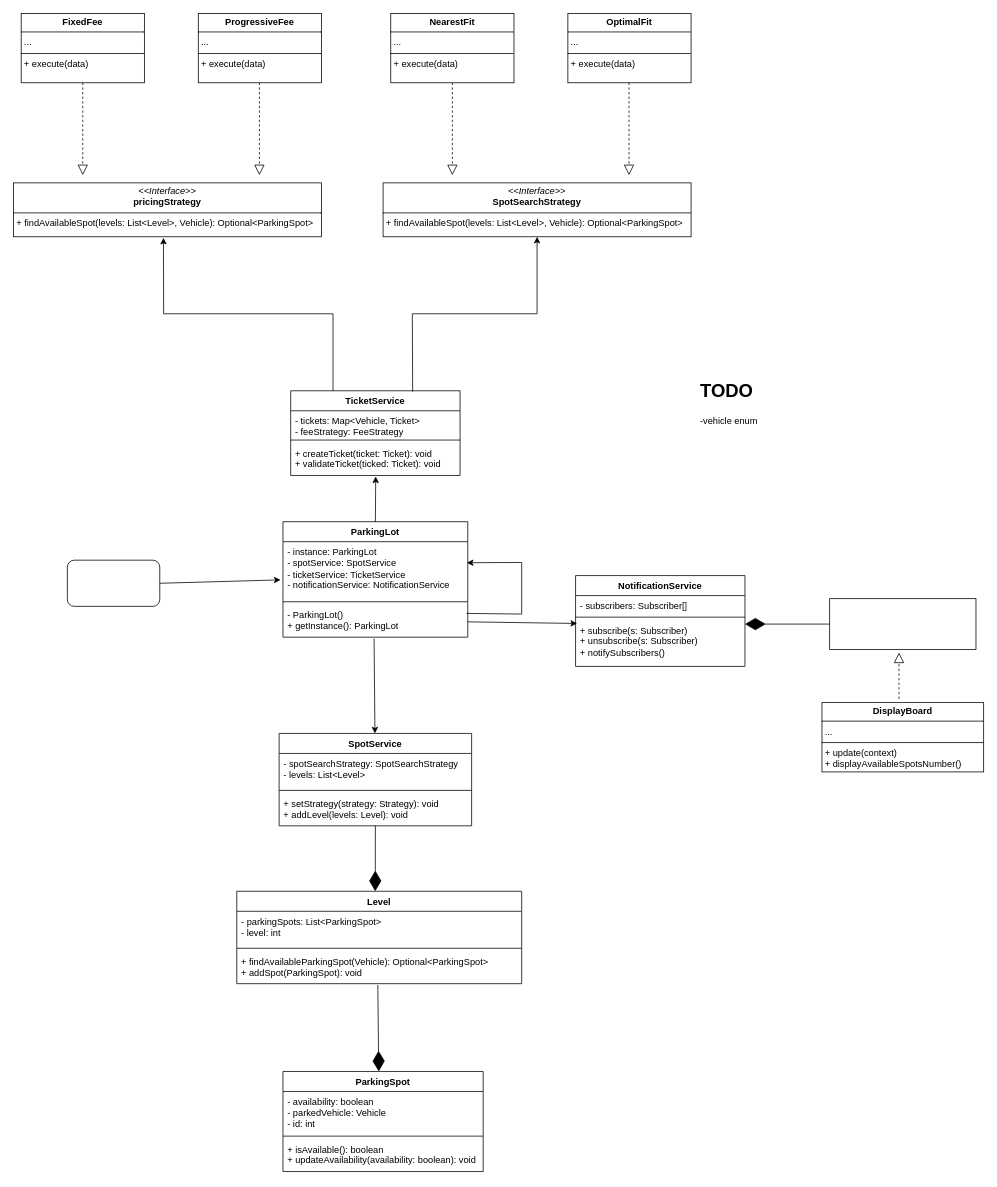
This 997x1187 diagram has some shape labels left out. The shapes that lost their labels are listed below. From the top down, each one's centre as x and y in pixels, then its label:
At pixel 113 582: "Client".
At pixel 902 623: "<<Interface>> Subscriber + update(context)".
